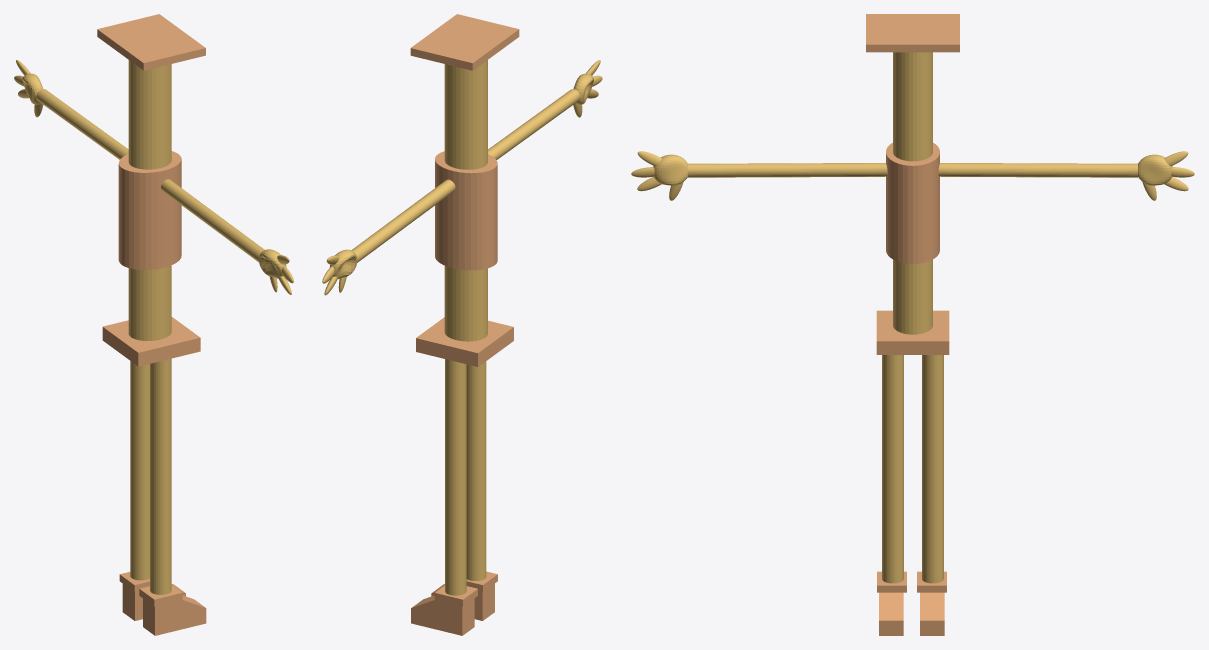
File: ETAI MATERIAL.fbx
3 renders of one model, left to right at view 1: azimuth 30°, elevation 25°; view 2: azimuth 150°, elevation 25°; view 3: azimuth 270°, elevation 25°, orthographic.
Parts seen in each view (by area): view 1: Cylinder.003, Cylinder.001, Cylinder.002, Cylinder.011, Cube.002, Cube.001, Cube.004, Cube.012, Cube.003; view 2: Cylinder.003, Cylinder.001, Cylinder.002, Cylinder.011, Cube.002, Cube.001, Cube.012, Cube.004, Cube.005; view 3: Cylinder.003, Cylinder.011, Cylinder.001, Cylinder.002, Cube.002, Cube.001, Cube.012, Cube.004.
Part boxes in pixels (<box>): Cylinder.003: <box>130,358,171,594</box>; Cylinder.001: <box>128,60,171,340</box>; Cylinder.002: <box>118,151,181,269</box>; Cylinder.011: <box>14,60,293,294</box>; Cube.002: <box>97,14,205,70</box>; Cube.001: <box>102,317,200,366</box>; Cube.004: <box>143,595,206,635</box>; Cube.012: <box>122,584,185,620</box>; Cube.003: <box>139,585,182,606</box>; Cylinder.003: <box>445,359,486,595</box>; Cylinder.001: <box>444,60,487,341</box>; Cylinder.002: <box>435,151,497,270</box>; Cylinder.011: <box>322,60,602,295</box>; Cube.002: <box>410,14,519,70</box>; Cube.001: <box>416,317,513,366</box>; Cube.012: <box>411,595,474,635</box>; Cube.004: <box>431,583,494,620</box>; Cube.005: <box>434,585,477,606</box>; Cylinder.003: <box>882,355,943,583</box>; Cylinder.011: <box>631,151,1194,200</box>; Cylinder.001: <box>893,52,932,334</box>; Cylinder.002: <box>886,143,939,263</box>; Cube.002: <box>866,14,959,52</box>; Cube.001: <box>876,310,949,354</box>; Cube.012: <box>920,592,944,635</box>; Cube.004: <box>879,592,903,635</box>.
Size of the model in its own units: 124 by 995 by 864.
